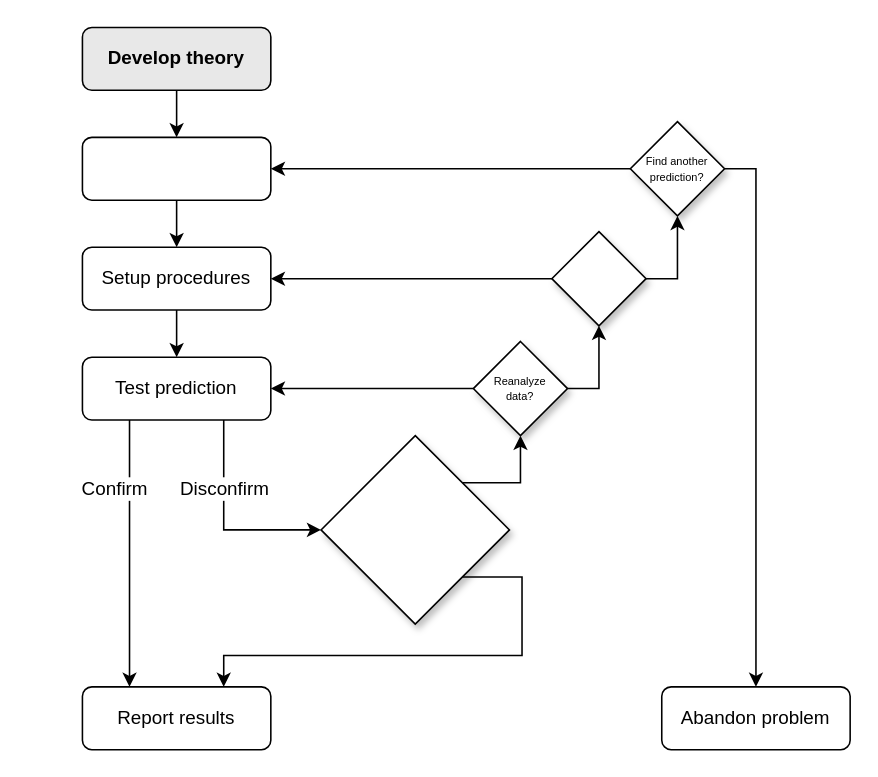
Some shapes in this 878 by 777 pixel diagram are drawn without their labels. The shapes that lost their labels are listed below. From the top down, each one's centre as x and y in pixels, then its label:
At (176,168): "Derive prediction".
At (599,280): "Revise procedures?".
At (416,531): "Disconfirmation dilemma".
